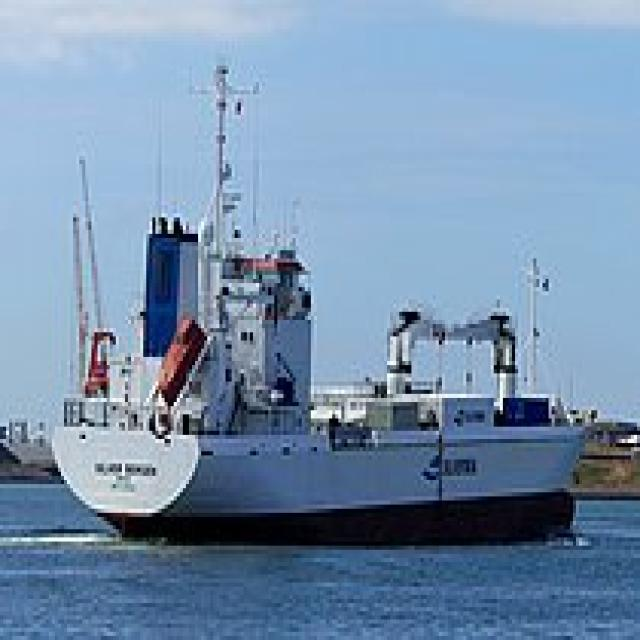Cargo: (43, 49, 597, 550)
